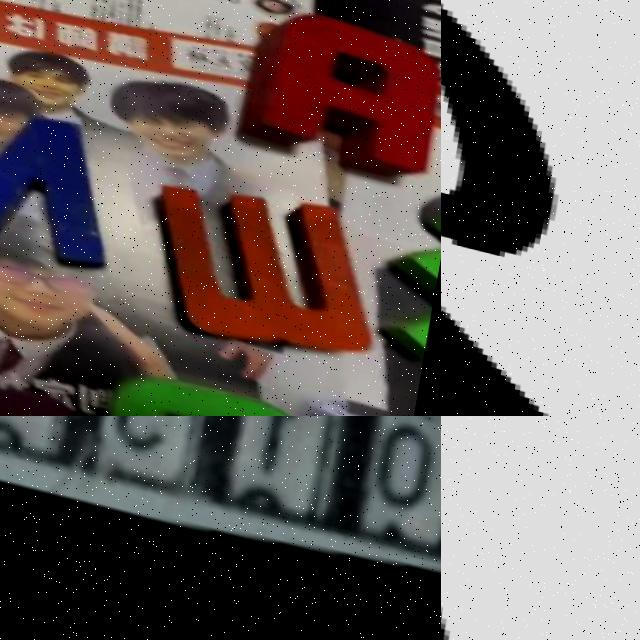0: (366, 416, 441, 507)
1: (246, 416, 310, 477)
2: (441, 0, 640, 416)
3: (108, 416, 185, 450)
5: (441, 416, 640, 640)
A: (238, 0, 441, 183)
C: (99, 359, 322, 416)
N: (0, 75, 128, 280)
W: (120, 160, 386, 369)
